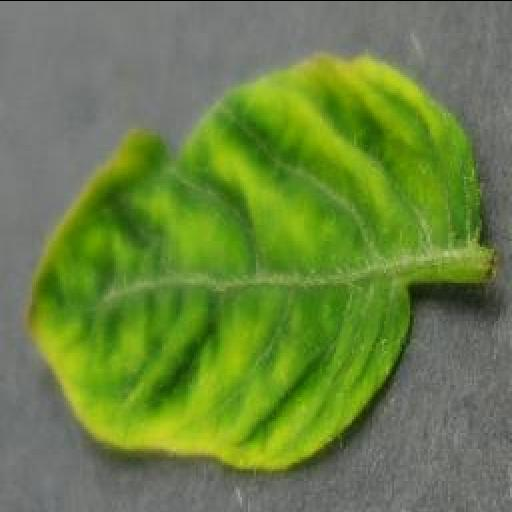disease_tomato: (23, 52, 485, 468)
